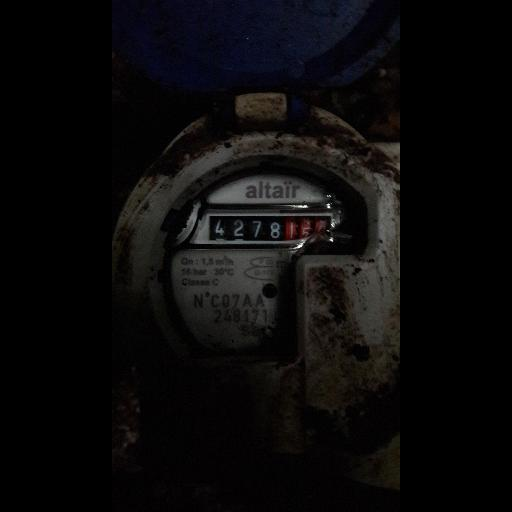0: (315, 216, 331, 235)
1: (284, 215, 301, 241)
2: (228, 215, 249, 242)
4: (210, 217, 229, 242), (298, 216, 315, 241)
7: (248, 215, 267, 242)
8: (265, 215, 285, 242)
border_water_meter_number: (201, 203, 339, 250)
